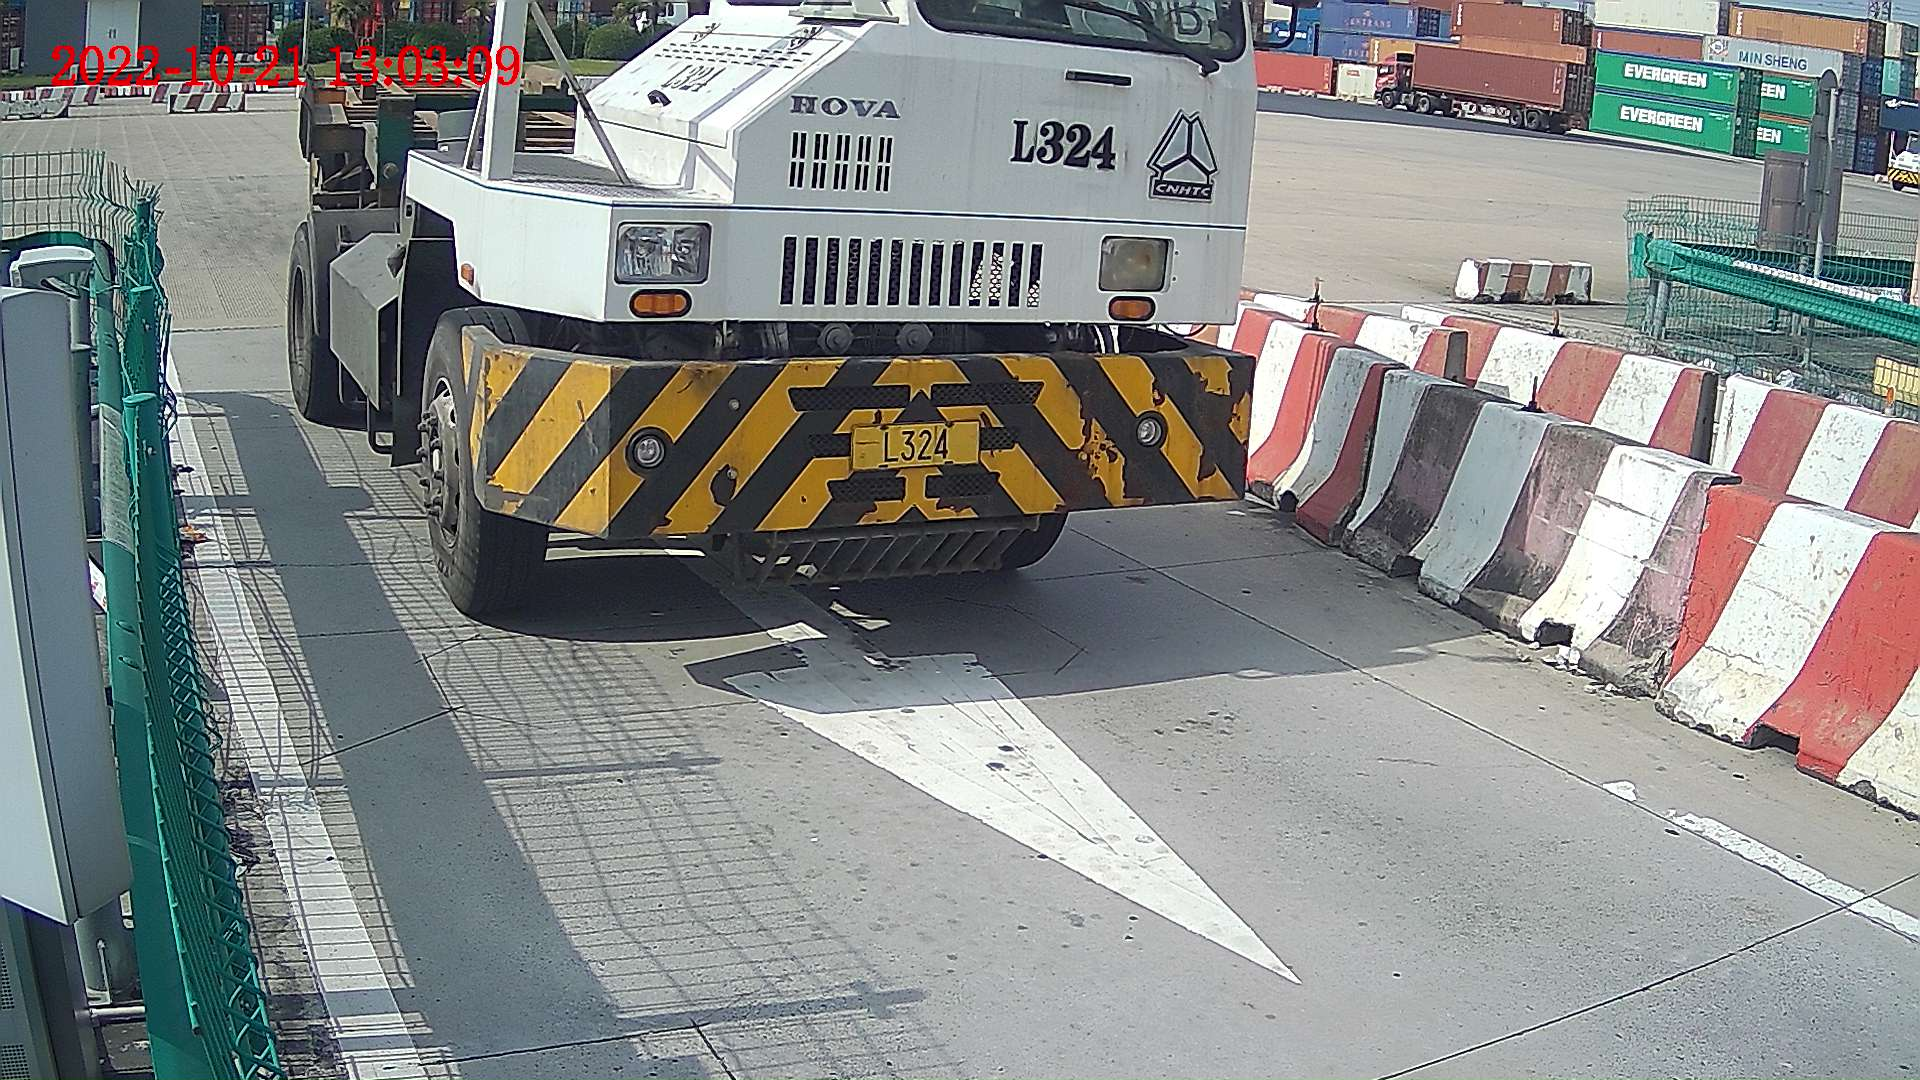head: (420, 1, 1263, 614)
plate: (852, 424, 977, 464)
